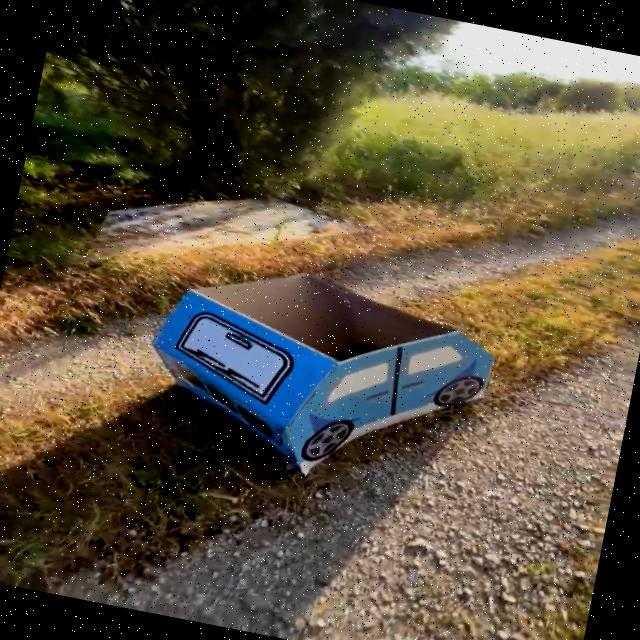blue_car: (94, 219, 527, 511)
